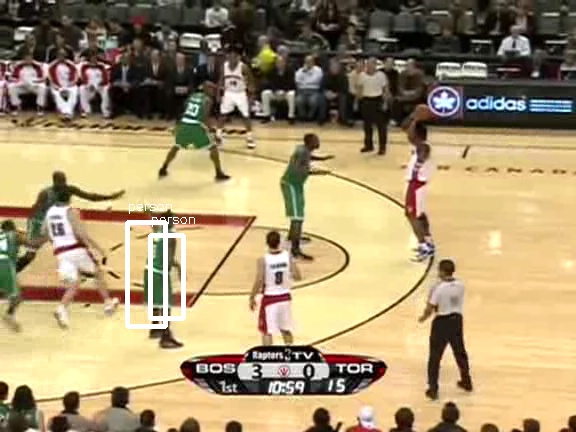person: (144, 230, 178, 311), (143, 230, 177, 311), (145, 230, 179, 311), (144, 229, 178, 310), (144, 231, 178, 312)
target_negative: (122, 98, 339, 283), (370, 290, 504, 359), (309, 63, 350, 179), (274, 350, 450, 355), (569, 393, 574, 427), (506, 27, 507, 132)
